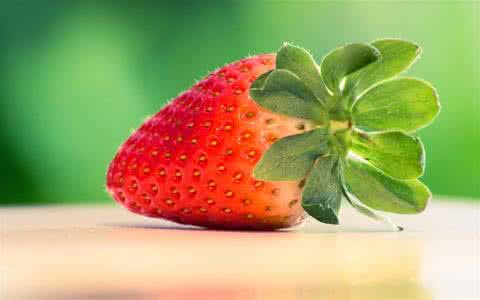strawberry: (105, 34, 430, 231)
